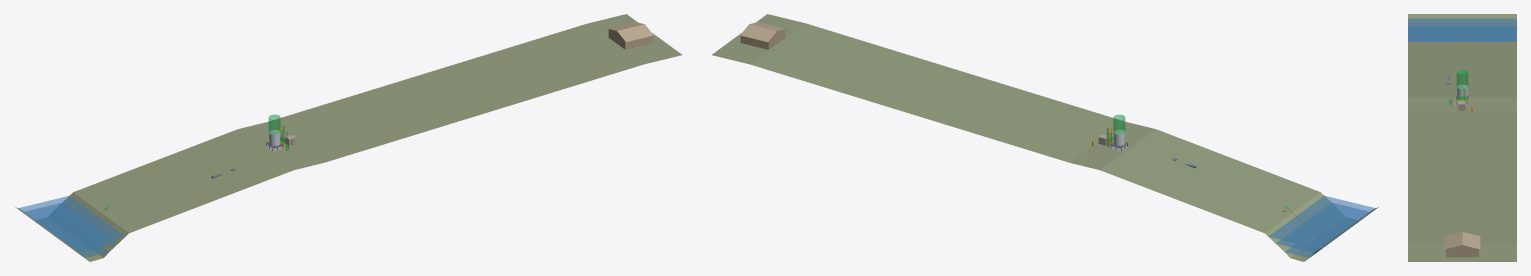
File: captacao_caixa_casa.obj
3 views of the same model, side by side, from view 1: azimuth 30°, elevation 25°; view 2: azimuth 150°, elevation 25°; view 3: azimuth 270°, elevation 25° (orthographic). The views are drawn at different scales.
Visible parts, largest first — view 1: TER-01__HIP, RIO-MAX__CONF, RIO-NOR__CONF, CASA__HIP; view 2: TER-01__HIP, RIO-MAX__CONF, RIO-NOR__CONF, CASA__HIP; view 3: TER-01__HIP, RIO-MAX__CONF, RIO-NOR__CONF, CASA__HIP, ZN-04__HIP, TQ-101__PEND.
Part boxes in pixels (x1,y1,x2,y2): TER-01__HIP: (15,14,681,261); RIO-MAX__CONF: (18,195,124,249); RIO-NOR__CONF: (25,203,117,252); CASA__HIP: (608,22,653,49); TER-01__HIP: (712,14,1378,261); RIO-MAX__CONF: (1269,195,1375,249); RIO-NOR__CONF: (1276,203,1368,252); CASA__HIP: (740,22,785,49); TER-01__HIP: (1408,14,1516,261); RIO-MAX__CONF: (1408,18,1516,41); RIO-NOR__CONF: (1408,26,1516,41); CASA__HIP: (1444,232,1480,257); ZN-04__HIP: (1456,69,1468,89); TQ-101__PEND: (1457,85,1467,99).
Size of the model in its own units: 252 by 29.5 by 40.
